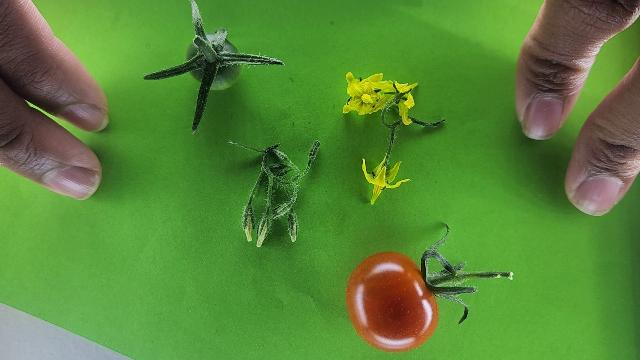Anthesis: (361, 155, 410, 206), (342, 71, 394, 115), (397, 85, 420, 125)
Flower Bud: (242, 203, 255, 242), (257, 216, 268, 245), (290, 213, 298, 241)
Fruit Maturation: (186, 34, 242, 90)
Fully Grown: (344, 250, 440, 354)
